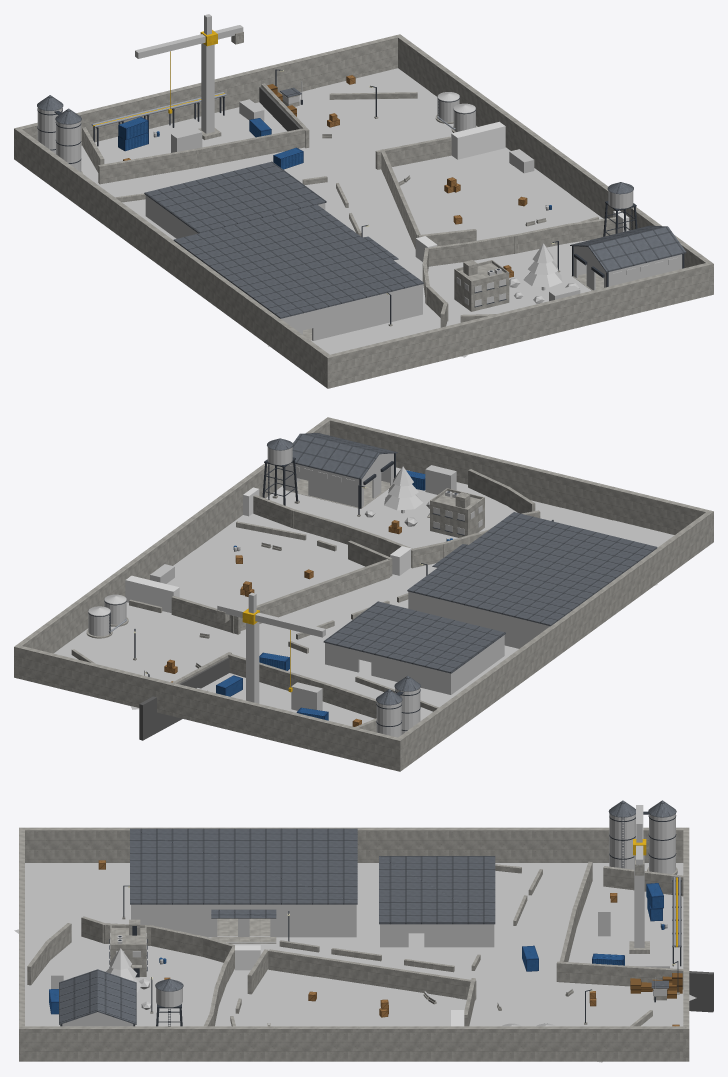
3 views of the same model, one above another, from view 1: azimuth 30°, elevation 25°; view 2: azimuth 150°, elevation 25°; view 3: azimuth 270°, elevation 25° (orthographic). The views are drawn at different scales.
Parts seen in each view (by area): view 1: Wall_Concrete, Add_Ceiling, Ground_Sand, Site_Tiles, Add_Metal_Light, Add_Brick, Ground_Grass, Add_Concrete, Road_Asphalt, Crane_Lattice, Add_Metal_Dark, Cube (+10 smaller); view 2: Wall_Concrete, Add_Ceiling, Ground_Sand, Site_Tiles, Add_Brick, Add_Metal_Light, Ground_Grass, Add_Concrete, Crane_Lattice, Cube.003, Add_Metal_Dark, Road_Asphalt (+10 smaller); view 3: Wall_Concrete, Ground_Sand, Add_Ceiling, Add_Brick, Site_Tiles, Ground_Grass, Add_Metal_Light, Road_Asphalt, Add_Concrete, CTSpawn_Tiles, Add_Metal_Roof, Add_Metal_Dark (+11 smaller).
Boxes of the visible parts, x1,y1,x2,y2 form: Wall_Concrete: (14,31,713,388); Add_Ceiling: (144,161,686,318); Ground_Sand: (81,88,603,351); Site_Tiles: (368,159,570,240); Add_Metal_Light: (37,92,682,290); Add_Brick: (145,195,422,340); Ground_Grass: (438,246,591,319); Add_Concrete: (81,94,603,340); Road_Asphalt: (267,95,468,357); Crane_Lattice: (135,14,243,133); Add_Metal_Dark: (37,69,684,324); Cube: (451,121,505,159); Wall_Concrete: (14,417,713,771); Add_Ceiling: (291,433,657,673); Ground_Sand: (54,467,612,726); Site_Tiles: (167,543,371,673); Add_Brick: (325,591,549,694); Add_Metal_Light: (88,447,458,737); Ground_Grass: (272,467,516,548); Add_Concrete: (86,479,484,668); Crane_Lattice: (217,592,325,703); Cube.003: (139,657,229,740); Add_Metal_Dark: (88,453,553,730); Road_Asphalt: (59,507,657,709); Wall_Concrete: (19,827,689,1061); Ground_Sand: (25,863,683,1026); Add_Ceiling: (59,828,495,1024); Add_Brick: (131,904,494,947); Site_Tiles: (248,933,463,1026); Ground_Grass: (25,948,218,1026); Add_Metal_Light: (62,813,675,1026); Road_Asphalt: (14,875,696,1062); Add_Concrete: (60,867,679,1026); CTSpawn_Tiles: (25,863,113,911); Add_Metal_Roof: (155,800,676,991); Add_Metal_Dark: (60,811,681,1026).
Size of the model in its own units: 92.65 by 31.64 by 135.
